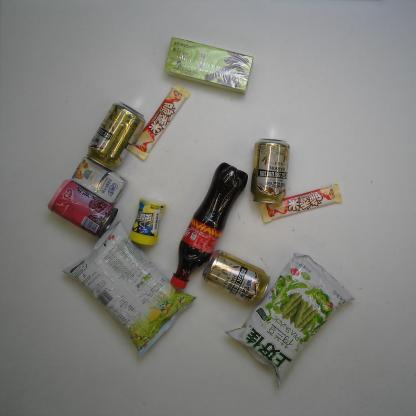Alcohol: (86, 100, 143, 173), (200, 249, 271, 304), (250, 137, 290, 204)
Canned Food: (45, 180, 118, 238)
Chocolate: (130, 82, 189, 162), (261, 182, 343, 224)
Drink: (168, 163, 248, 290)
Gum: (128, 196, 166, 247)
Instant Drink: (164, 37, 254, 94)
Milk: (70, 155, 127, 202)
Puffed Food: (63, 219, 197, 358), (222, 252, 354, 387)
